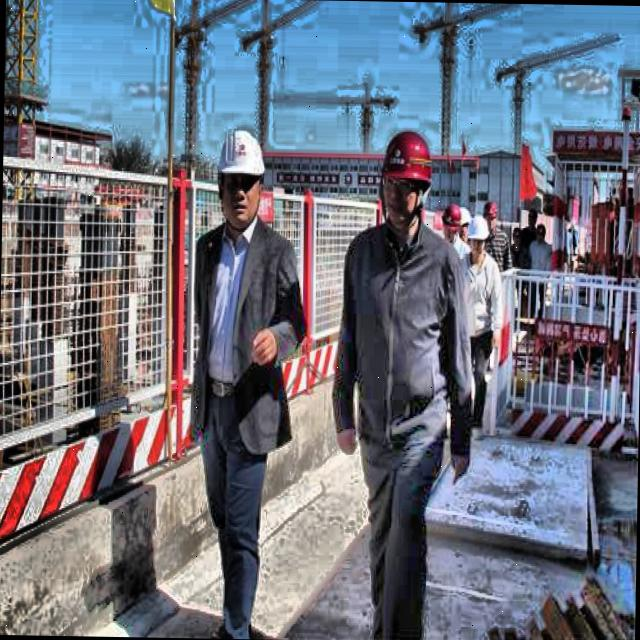helmet: (377, 127, 438, 230), (213, 124, 266, 230), (439, 198, 463, 248), (466, 213, 491, 261), (482, 193, 502, 234)
